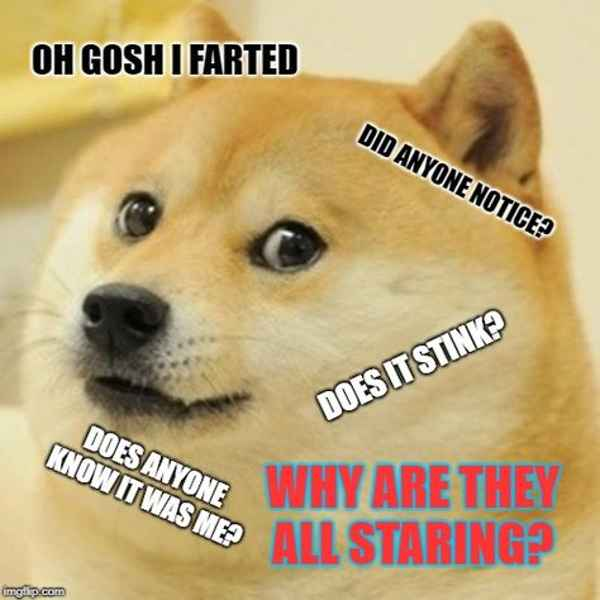doge: (17, 6, 561, 539)
